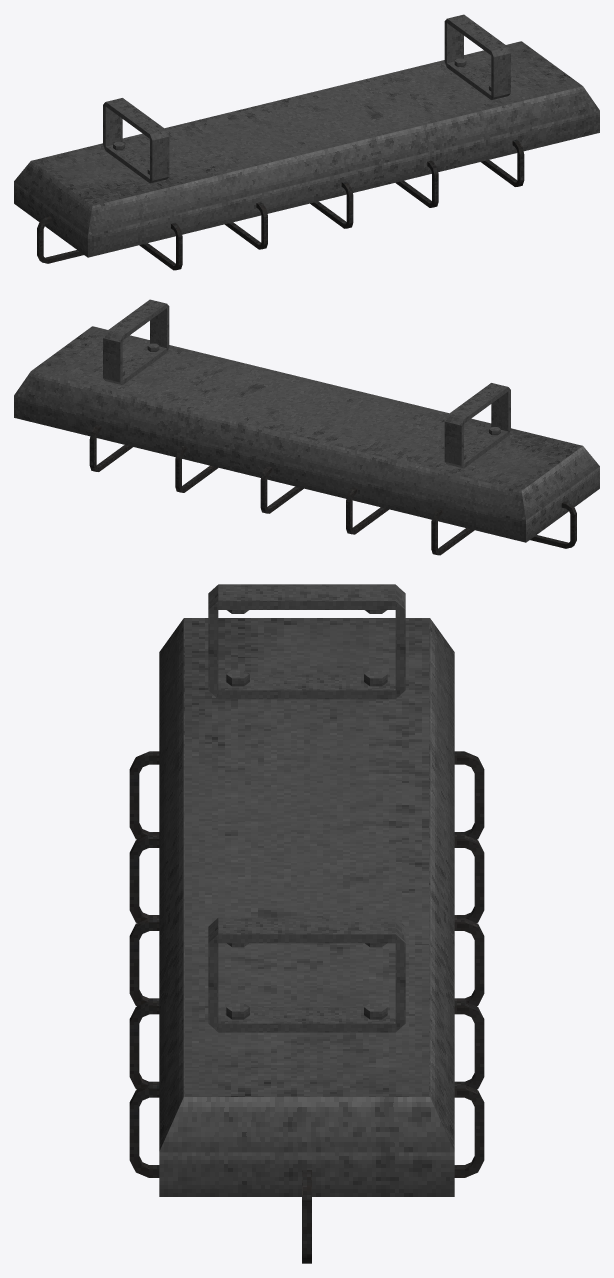
Rendered from ceiling_lamp_4_1_a_off.glb.
The picture shows the model from 3 angles, top to bottom: view 1: azimuth 30°, elevation 25°; view 2: azimuth 150°, elevation 25°; view 3: azimuth 270°, elevation 25°; orthographic projection. The views are drawn at different scales.
Parts seen in each view (by area): view 1: ceiling_lamp_4_1_a_off, ceiling_lamp_4_1_a_off_protector; view 2: ceiling_lamp_4_1_a_off, ceiling_lamp_4_1_a_off_protector; view 3: ceiling_lamp_4_1_a_off, ceiling_lamp_4_1_a_off_protector.
Boxes of the visible parts, x1,y1,x2,y2 form: ceiling_lamp_4_1_a_off: (14, 14, 599, 257); ceiling_lamp_4_1_a_off_protector: (37, 139, 524, 270); ceiling_lamp_4_1_a_off: (14, 299, 599, 542); ceiling_lamp_4_1_a_off_protector: (89, 424, 576, 555); ceiling_lamp_4_1_a_off: (159, 584, 454, 1196); ceiling_lamp_4_1_a_off_protector: (129, 751, 484, 1263).
Bounding box in the file's own units: 1.26 × 0.28 × 0.36.
2 materials, 2 textured.
